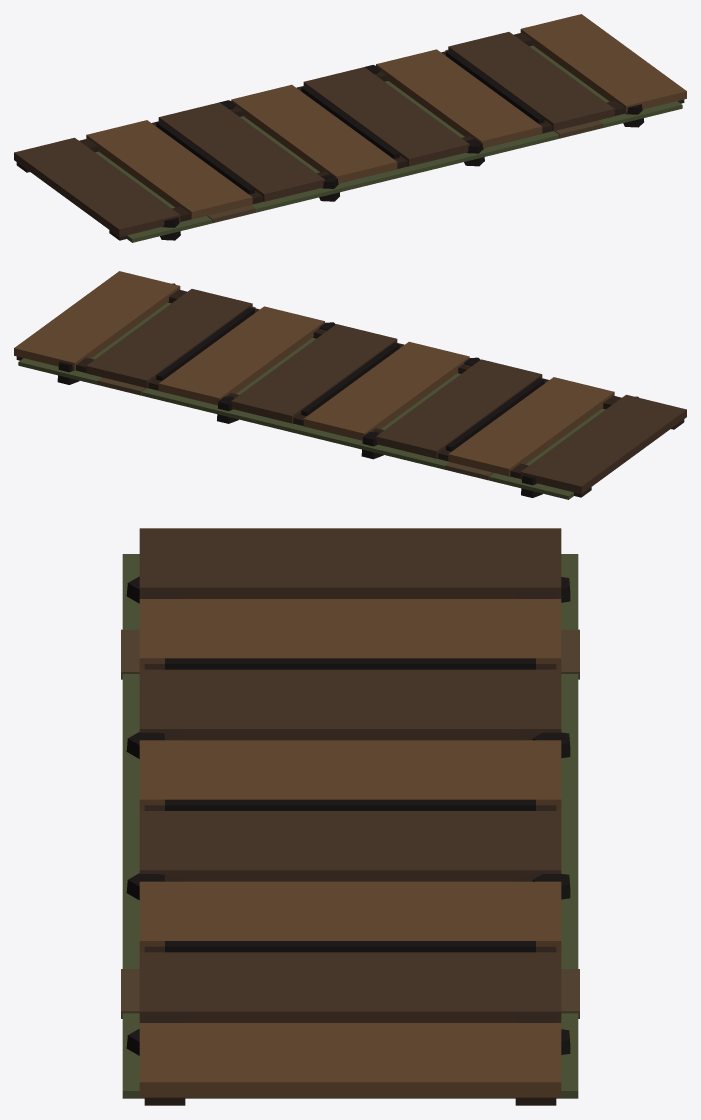
File: fenbridge_boardwalk.glb
3 views of the same model, one above another, from view 1: azimuth 30°, elevation 25°; view 2: azimuth 150°, elevation 25°; view 3: azimuth 270°, elevation 25° (orthographic). The views are drawn at different scales.
Visible parts, largest first — view 1: FenbridgeBoardwalk_FenbridgeOpaque; view 2: FenbridgeBoardwalk_FenbridgeOpaque; view 3: FenbridgeBoardwalk_FenbridgeOpaque.
Boxes of the visible parts, x1,y1,x2,y2 form: FenbridgeBoardwalk_FenbridgeOpaque: (14,14,686,242); FenbridgeBoardwalk_FenbridgeOpaque: (14,271,686,499); FenbridgeBoardwalk_FenbridgeOpaque: (121,528,579,1105).
Size of the model in its own units: 4 by 0.1499 by 1.4.
